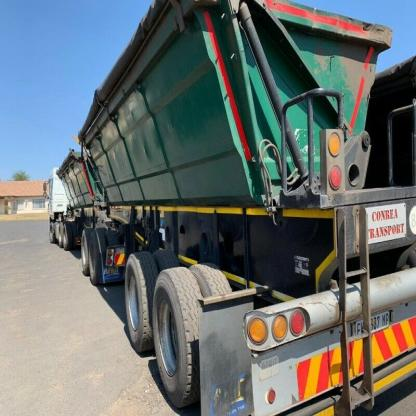dump_truck: (39, 10, 415, 415)
